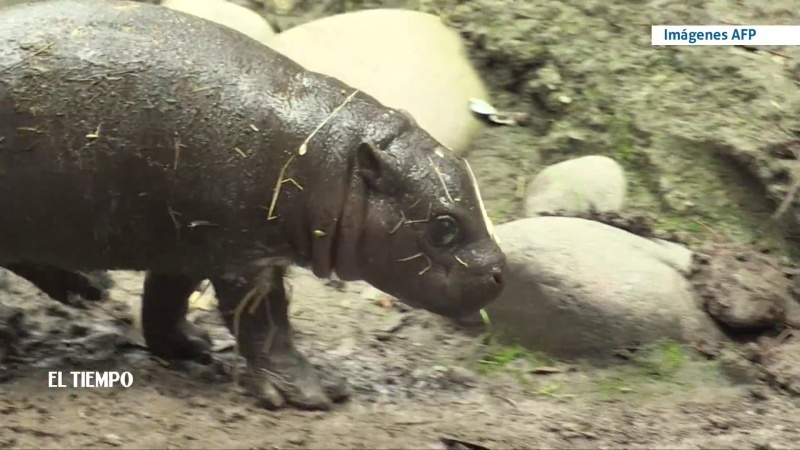hipopotamo: (1, 1, 521, 416)
